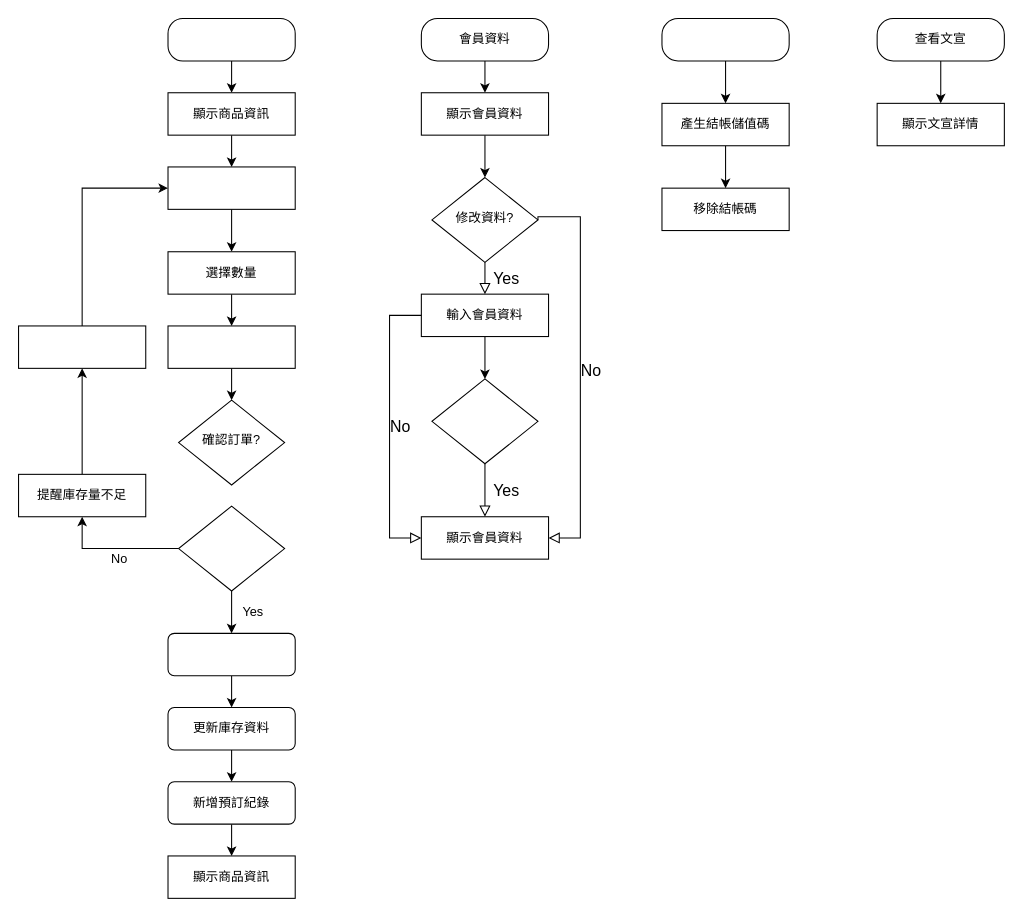
The diagram is 1023 pixels wide and 917 high, and some of its shapes have lost their labels. Each missing label, with the centre of its shape:
"刪除商品" belongs at point (81, 346).
"填寫預訂資料" belongs at point (231, 346).
"完成訂單" belongs at point (231, 654).
"庫存量足夠?" belongs at point (231, 548).
"確認修改？" belongs at point (484, 421).
"結帳或儲值" belongs at point (725, 39).
"選擇商品" belongs at point (231, 187).
"預訂商品" belongs at point (231, 39).
